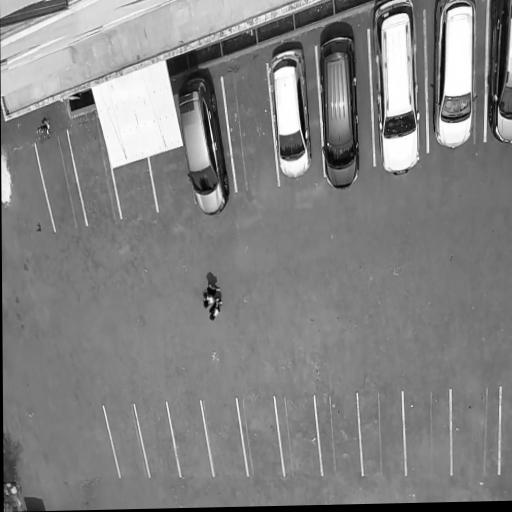Car: (173, 63, 232, 223), (371, 0, 422, 180), (318, 27, 363, 193), (433, 0, 478, 153), (267, 42, 315, 184), (486, 0, 512, 150)
Space Available: (223, 63, 278, 192), (67, 120, 121, 226), (36, 130, 87, 231), (451, 387, 500, 475), (403, 390, 451, 477), (315, 391, 362, 478), (358, 394, 405, 477), (275, 396, 321, 477), (237, 398, 284, 477), (166, 401, 213, 480), (202, 399, 247, 477), (135, 402, 180, 480), (104, 405, 149, 481), (150, 146, 195, 211), (113, 157, 157, 218), (499, 387, 512, 476)
